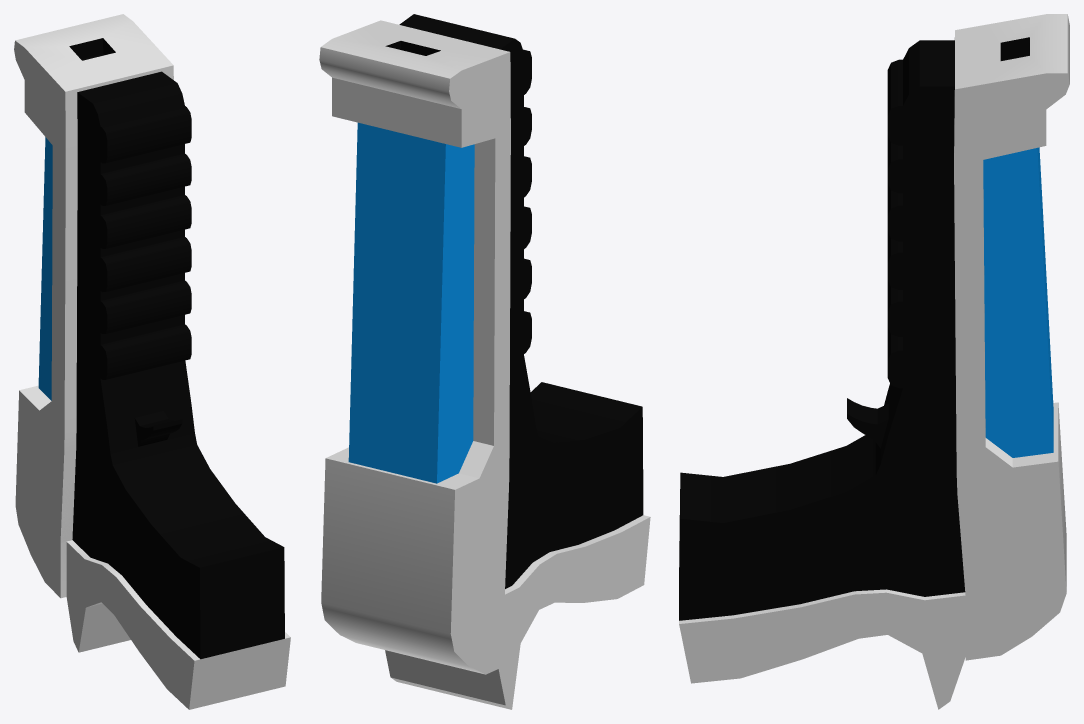
File: Pistol.fbx
The picture shows the model from 3 angles, left to right: view 1: azimuth 30°, elevation 25°; view 2: azimuth 150°, elevation 25°; view 3: azimuth 270°, elevation 25°; orthographic projection. The views are drawn at different scales.
Visible parts, largest first — view 1: Pistol; view 2: Pistol; view 3: Pistol.
Boxes of the visible parts, left/top/right/bottom form: Pistol: left=14, top=14, right=290, bottom=709; Pistol: left=319, top=14, right=650, bottom=709; Pistol: left=679, top=14, right=1069, bottom=709.
Size of the model in its own units: 21.8 by 110 by 60.78.
